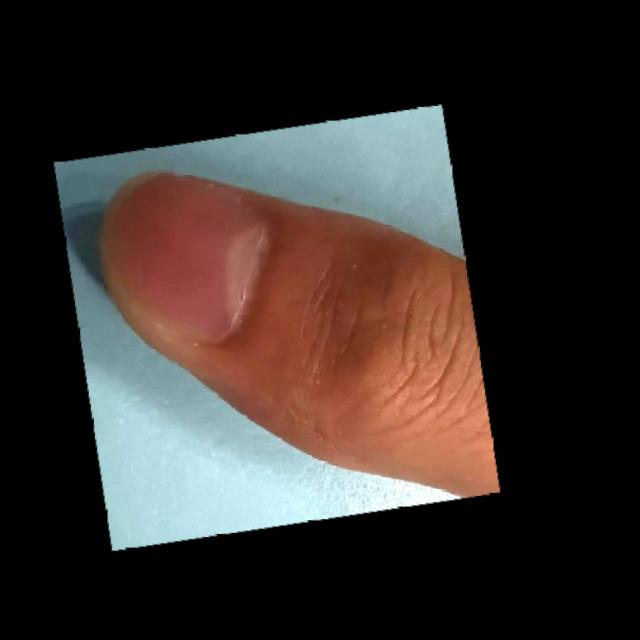Nail: (103, 167, 261, 341)
